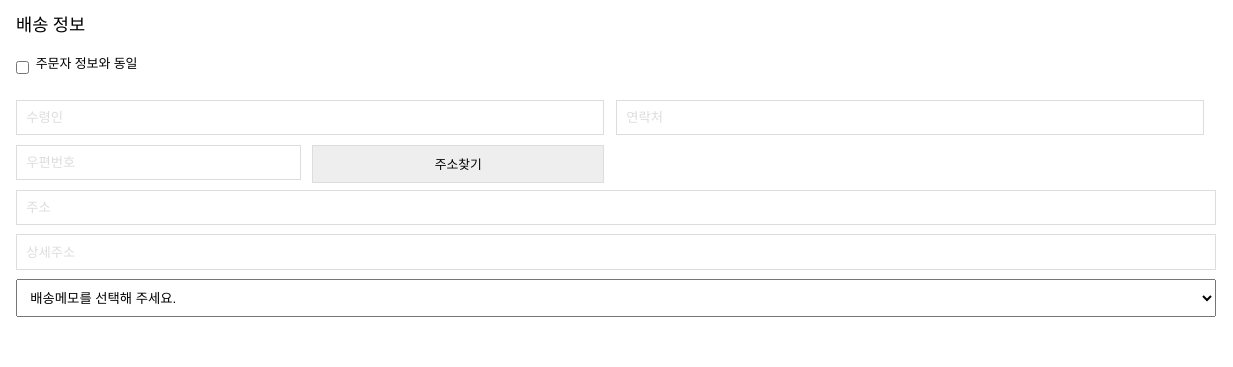
Scenario: ShippingInformation › 우편번호 › 올바르지 않은 우편번호를 입력했을 경우 › 올바른 주소를 입력하세요 에러메시지가 보인다
This screenshot has width=1233, height=367.
Expected: the text "올바른 우편번호를 입력하세요" is not shown
Type "aa11" into the field with placeholder "우편번호" at (158, 162), box [16,144,301,180]
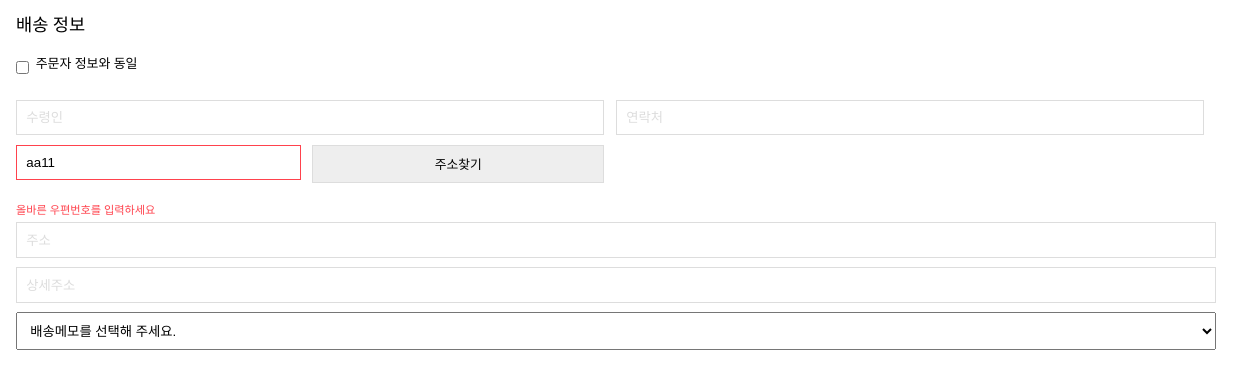
Now the text "올바른 우편번호를 입력하세요" is shown, box [16,204,155,216]
